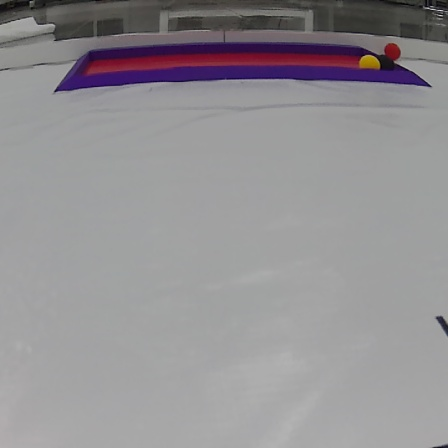black: (377, 55, 391, 71)
red: (386, 43, 403, 59)
red_aim: (49, 43, 433, 91)
yellow: (359, 54, 378, 72)
